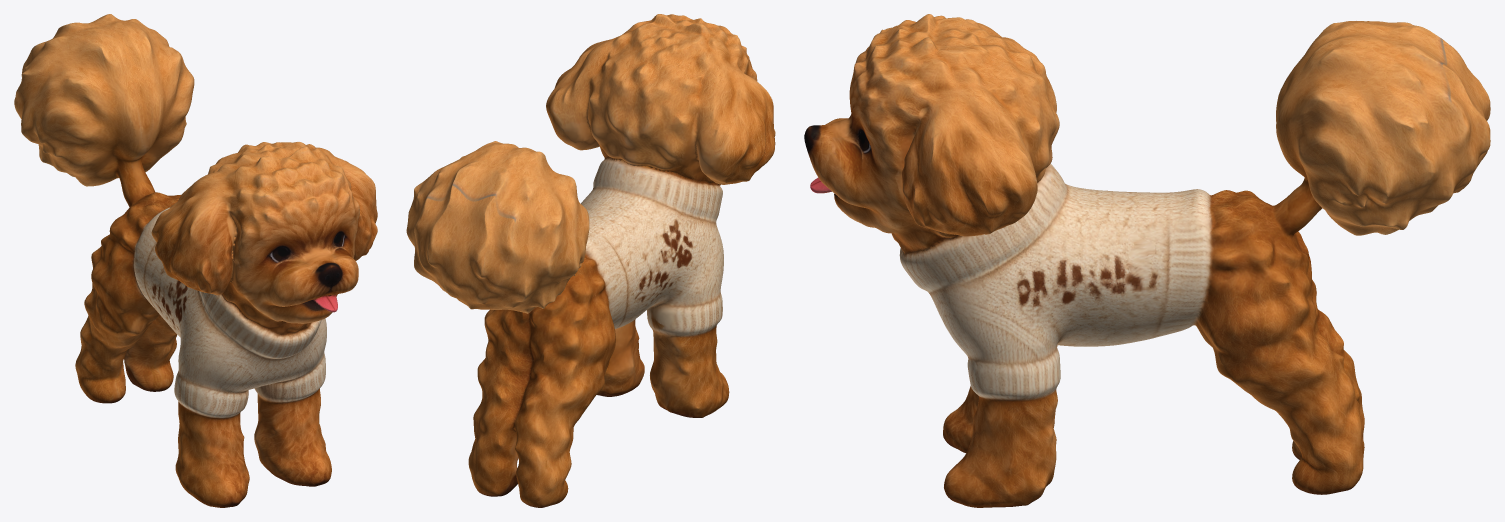
Rendered from Meshy_AI_Pryanik_in_a_Sweater_1108002031_texture.glb.
3 renders of one model, left to right at view 1: azimuth 30°, elevation 25°; view 2: azimuth 150°, elevation 25°; view 3: azimuth 270°, elevation 25°, orthographic. The views are drawn at different scales.
Size of the model in its own units: 0.8439 by 1.36 by 1.9.
1 material, 1 textured.
